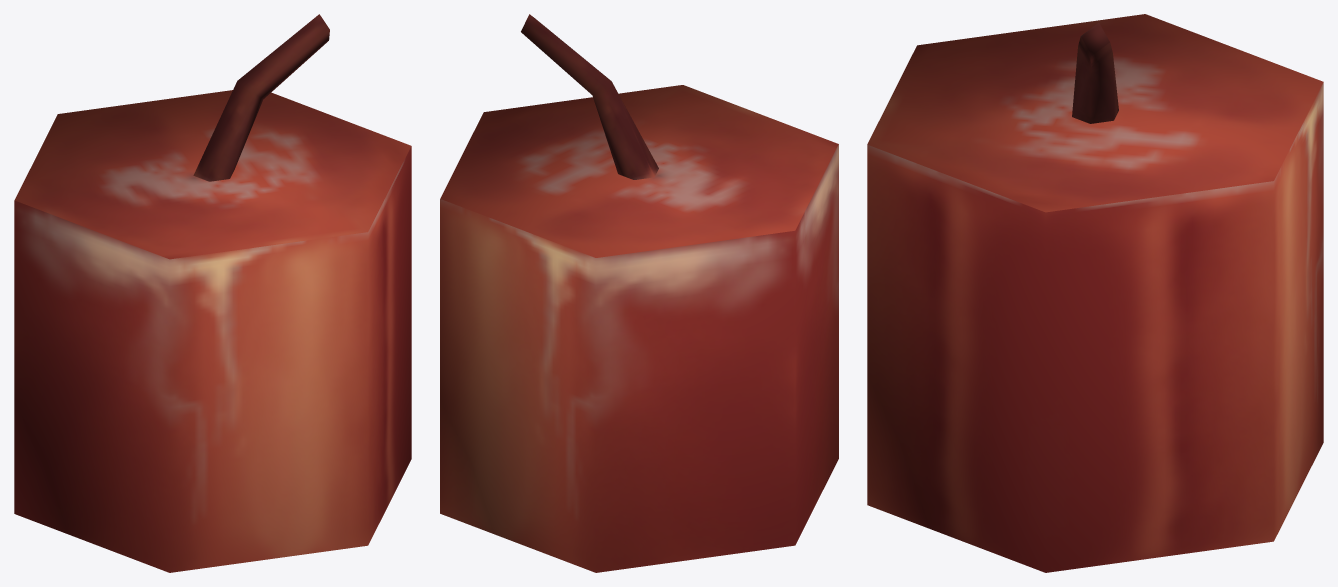
The model's file is ShenMiRenJia_01_lazhu_01.FBX.
3 renders of one model, left to right at view 1: azimuth 30°, elevation 25°; view 2: azimuth 150°, elevation 25°; view 3: azimuth 270°, elevation 25°, orthographic. The views are drawn at different scales.
Parts seen in each view (by area): view 1: ShenMiRenJia_01_lazhu_01; view 2: ShenMiRenJia_01_lazhu_01; view 3: ShenMiRenJia_01_lazhu_01.
Boxes of the visible parts, bbox=[...] form: ShenMiRenJia_01_lazhu_01: bbox=[14, 14, 411, 572]; ShenMiRenJia_01_lazhu_01: bbox=[440, 14, 838, 572]; ShenMiRenJia_01_lazhu_01: bbox=[867, 14, 1323, 572].
Size of the model in its own units: 57.78 by 69.5 by 56.18.
